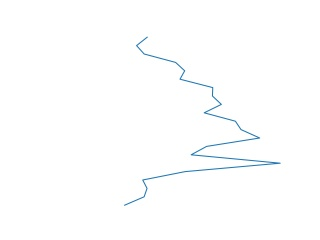floodSwamp: (120, 37, 282, 207)
